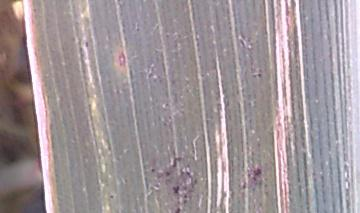tarspot: (245, 164, 266, 184), (185, 171, 199, 189), (169, 155, 182, 170), (171, 183, 182, 197), (163, 171, 173, 181), (172, 205, 184, 213), (146, 165, 156, 174), (238, 183, 249, 191), (253, 71, 262, 79), (105, 145, 114, 152), (182, 195, 191, 201), (84, 40, 90, 48), (96, 157, 102, 164), (109, 194, 116, 199), (176, 200, 183, 205), (182, 185, 187, 191)
